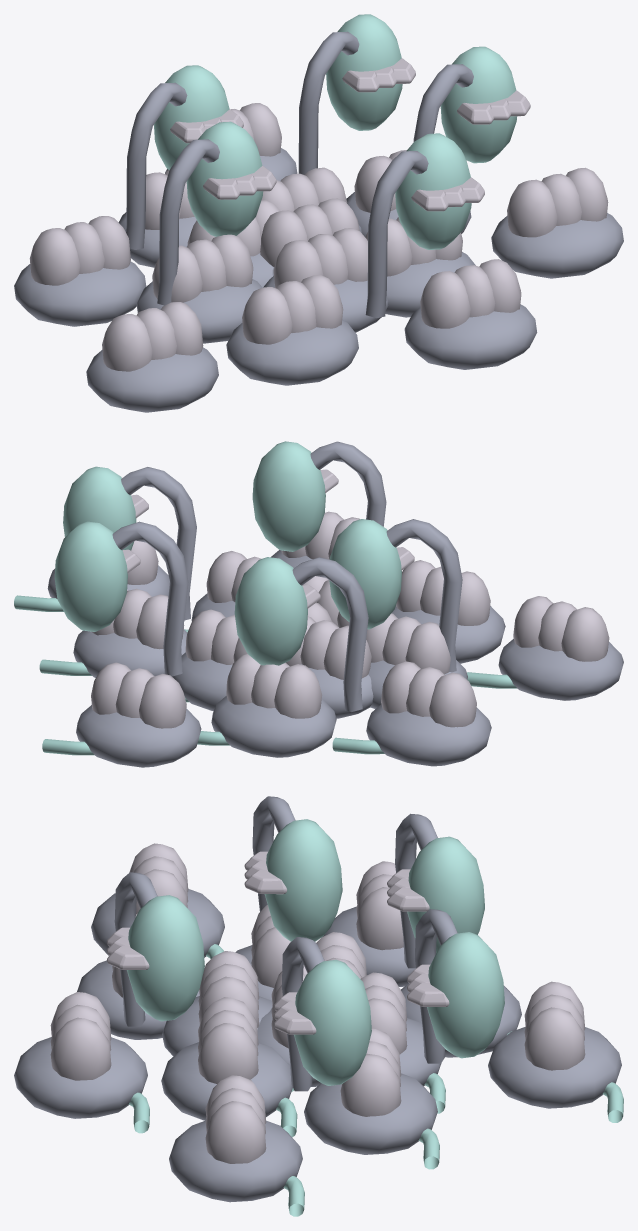
The model's file is bio_acid_mat_23_far.glb.
3 renders of one model, top to bottom at view 1: azimuth 30°, elevation 25°; view 2: azimuth 150°, elevation 25°; view 3: azimuth 270°, elevation 25°, orthographic. The views are drawn at different scales.
Parts seen in each view (by area): view 1: Microbial cushion.010, Microbial cushion.012, Microbial cushion.007, Microbial cushion.013, Microbial cushion.009, Pendant spore capsule.002, Pendant spore capsule.003, Pendant spore capsule.004, Pendant spore capsule, Reaction vesicle.027, Reaction vesicle.030, Reaction vesicle.036 (+28 smaller); view 2: Pendant spore capsule.003, Pendant spore capsule.002, Pendant spore capsule.001, Microbial cushion.012, Microbial cushion.006, Microbial cushion.011, Microbial cushion.009, Pendant spore capsule.004, Reaction vesicle.033, Reaction vesicle.027, Reaction vesicle.036, Reaction vesicle.018 (+27 smaller); view 3: Pendant spore capsule, Pendant spore capsule.002, Pendant spore capsule.003, Pendant spore capsule.004, Microbial cushion.013, Microbial cushion.010, Microbial cushion.011, Microbial cushion.008, Pendant spore capsule.001, Reaction vesicle.030, Reaction vesicle.033, Reaction vesicle.039 (+30 smaller).
Part boxes in pixels (x1=…): Microbial cushion.010: x1=404, y1=304, x2=537, y2=369; Microbial cushion.012: x1=86, y1=347, x2=218, y2=412; Microbial cushion.007: x1=226, y1=320, x2=358, y2=385; Microbial cushion.013: x1=491, y1=213, x2=623, y2=278; Microbial cushion.009: x1=14, y1=261, x2=146, y2=326; Pendant spore capsule.002: x1=395, y1=133, x2=471, y2=249; Pendant spore capsule.003: x1=326, y1=14, x2=402, y2=130; Pendant spore capsule.004: x1=186, y1=121, x2=263, y2=236; Pendant spore capsule: x1=440, y1=46, x2=517, y2=163; Reaction vesicle.027: x1=29, y1=216, x2=130, y2=285; Reaction vesicle.030: x1=420, y1=259, x2=521, y2=328; Reaction vesicle.036: x1=102, y1=302, x2=203, y2=371; Pendant spore capsule.003: x1=54, y1=521, x2=127, y2=631; Pendant spore capsule.002: x1=252, y1=441, x2=325, y2=551; Pendant spore capsule.001: x1=234, y1=557, x2=307, y2=665; Microbial cushion.012: x1=498, y1=638, x2=623, y2=700; Microbial cushion.006: x1=211, y1=696, x2=336, y2=757; Microbial cushion.011: x1=76, y1=705, x2=201, y2=767; Microbial cushion.009: x1=366, y1=704, x2=491, y2=766; Pendant spore capsule.004: x1=329, y1=519, x2=401, y2=629; Reaction vesicle.033: x1=91, y1=662, x2=186, y2=728; Reaction vesicle.027: x1=381, y1=661, x2=476, y2=727; Reaction vesicle.036: x1=513, y1=596, x2=609, y2=661; Reaction vesicle.018: x1=226, y1=654, x2=322, y2=718; Pendant spore capsule: x1=294, y1=959, x2=371, y2=1085; Pendant spore capsule.002: x1=127, y1=895, x2=204, y2=1021; Pendant spore capsule.003: x1=427, y1=932, x2=504, y2=1058; Pendant spore capsule.004: x1=264, y1=819, x2=342, y2=941; Microbial cushion.013: x1=169, y1=1120, x2=302, y2=1202; Microbial cushion.010: x1=14, y1=1037, x2=147, y2=1118; Microbial cushion.011: x1=488, y1=1026, x2=621, y2=1108; Microbial cushion.008: x1=304, y1=1073, x2=437, y2=1154; Pendant spore capsule.001: x1=407, y1=836, x2=484, y2=953; Reaction vesicle.030: x1=50, y1=992, x2=111, y2=1080; Reaction vesicle.033: x1=524, y1=981, x2=585, y2=1070; Reaction vesicle.039: x1=205, y1=1075, x2=266, y2=1163.
Size of the model in its own units: 2.33 by 0.7658 by 2.
